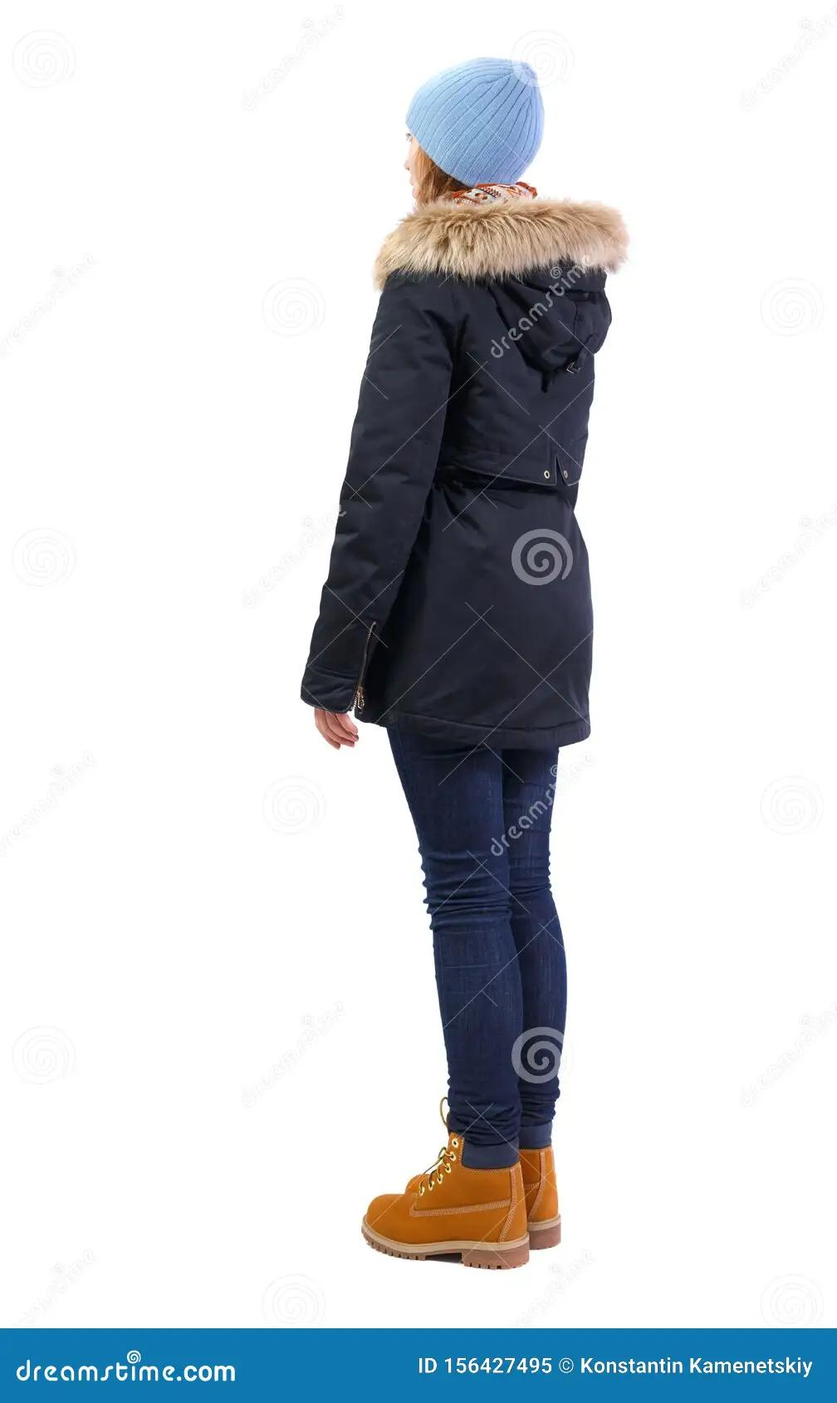coat: (296, 196, 628, 753)
trousers: (382, 711, 575, 1156)
